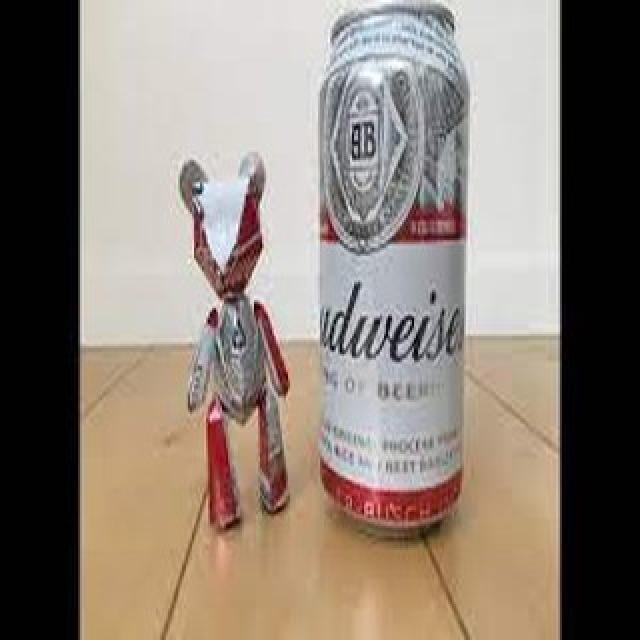recyclable: (314, 7, 480, 534)
